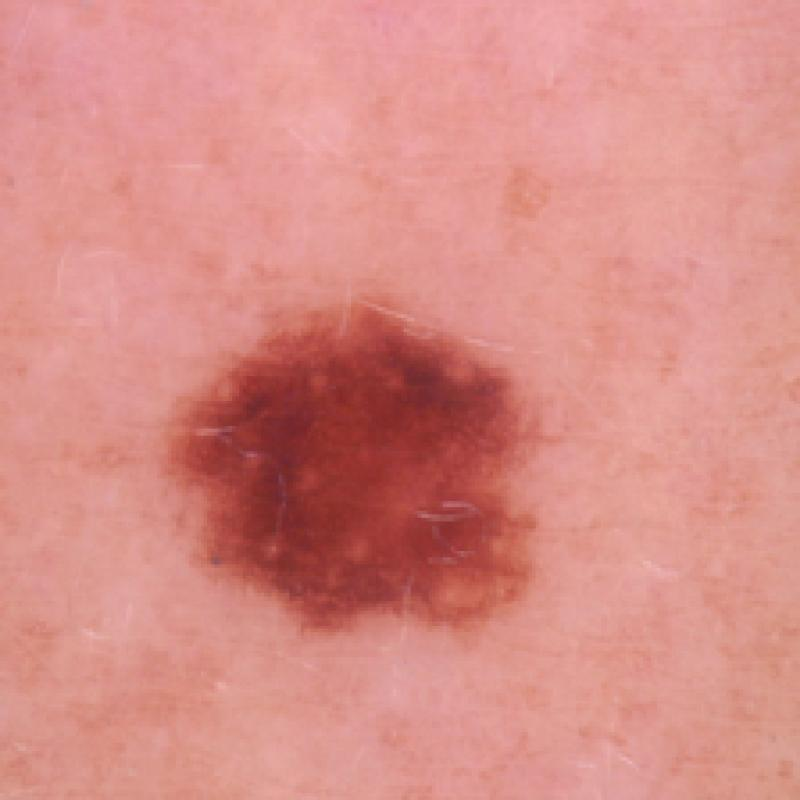benign: (146, 283, 563, 662)
